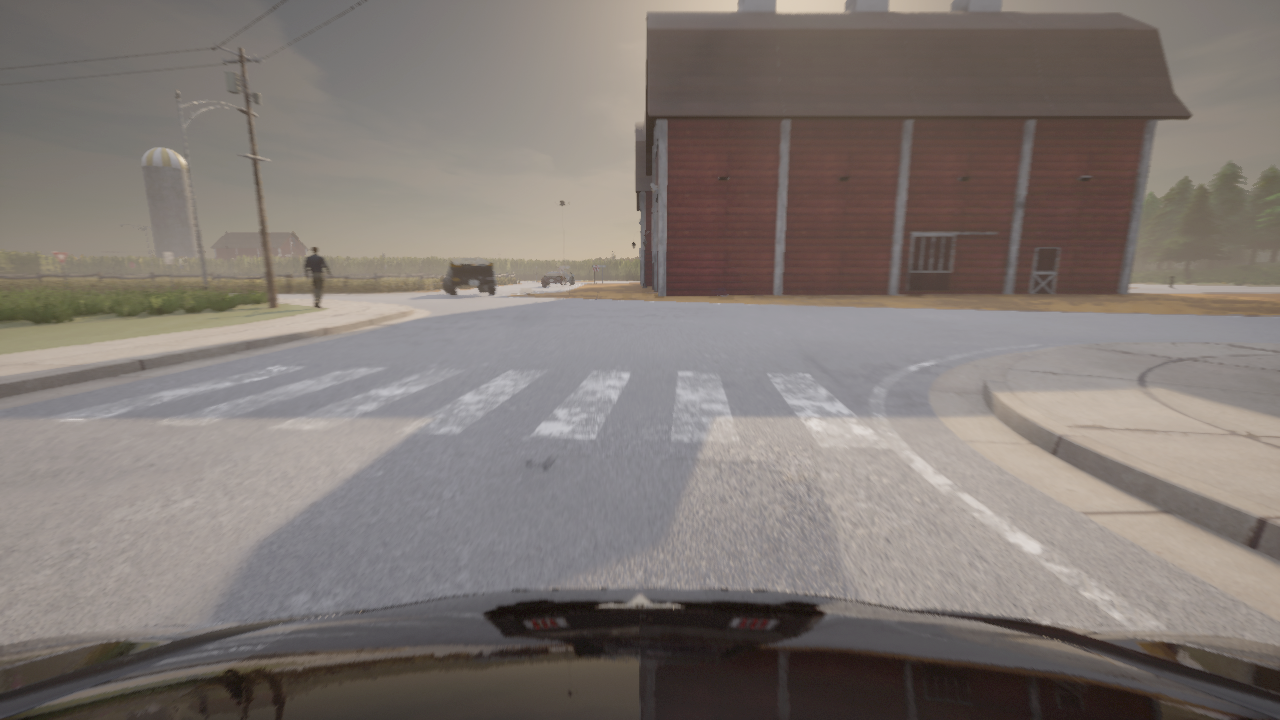cyclist: (0, 588, 1279, 719), (442, 257, 496, 296), (542, 271, 566, 286), (561, 271, 573, 284)
pedestrian: (304, 246, 332, 308)
